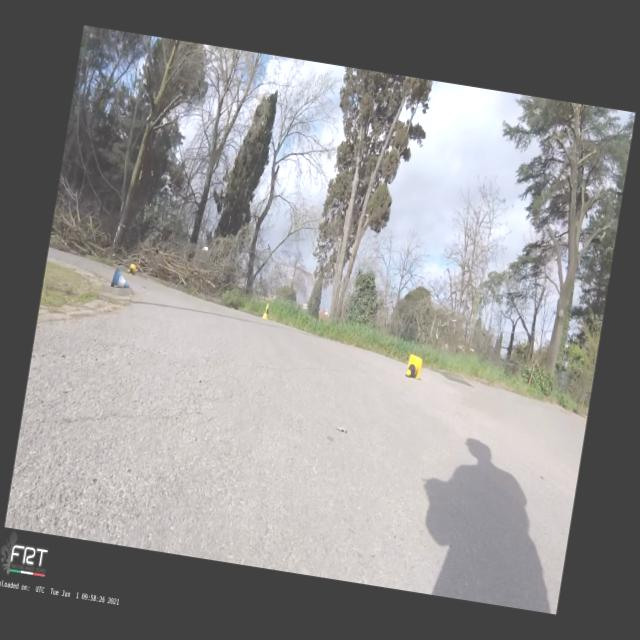blue_cone: (110, 268, 132, 290)
yellow_cone: (406, 354, 424, 380), (125, 263, 136, 275), (262, 304, 270, 320)
